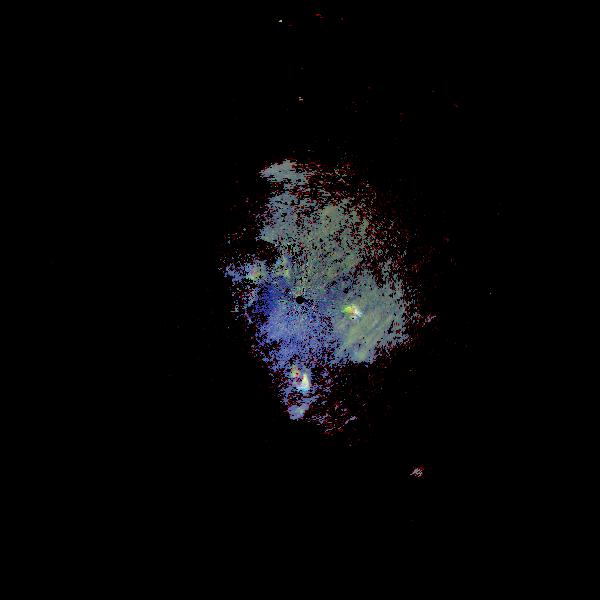roost: (280, 360, 319, 399), (346, 303, 364, 321)
